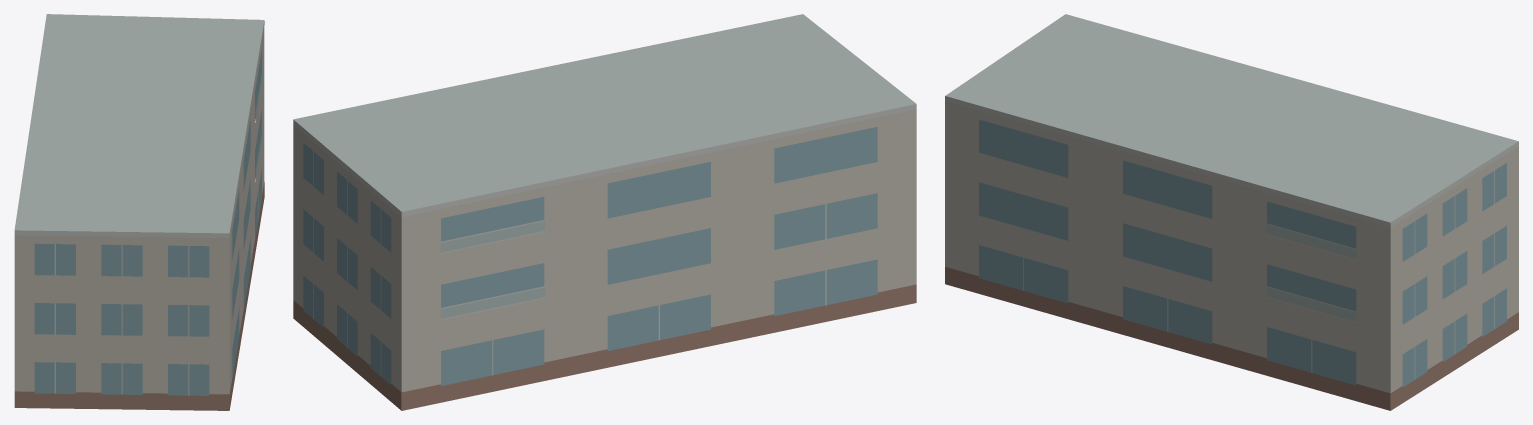
The model's file is survey-upis-32904776.glb.
3 renders of one model, left to right at view 1: azimuth 30°, elevation 25°; view 2: azimuth 150°, elevation 25°; view 3: azimuth 270°, elevation 25°, orthographic. The views are drawn at different scales.
Visible parts, largest first — view 1: survey-upis-32904776.tmp; view 2: survey-upis-32904776.tmp; view 3: survey-upis-32904776.tmp.
Boxes of the visible parts, x1,y1,x2,y2 form: survey-upis-32904776.tmp: (14,14,264,410); survey-upis-32904776.tmp: (293,14,916,410); survey-upis-32904776.tmp: (945,14,1518,410).
Size of the model in its own units: 21.75 by 9.15 by 25.28.
